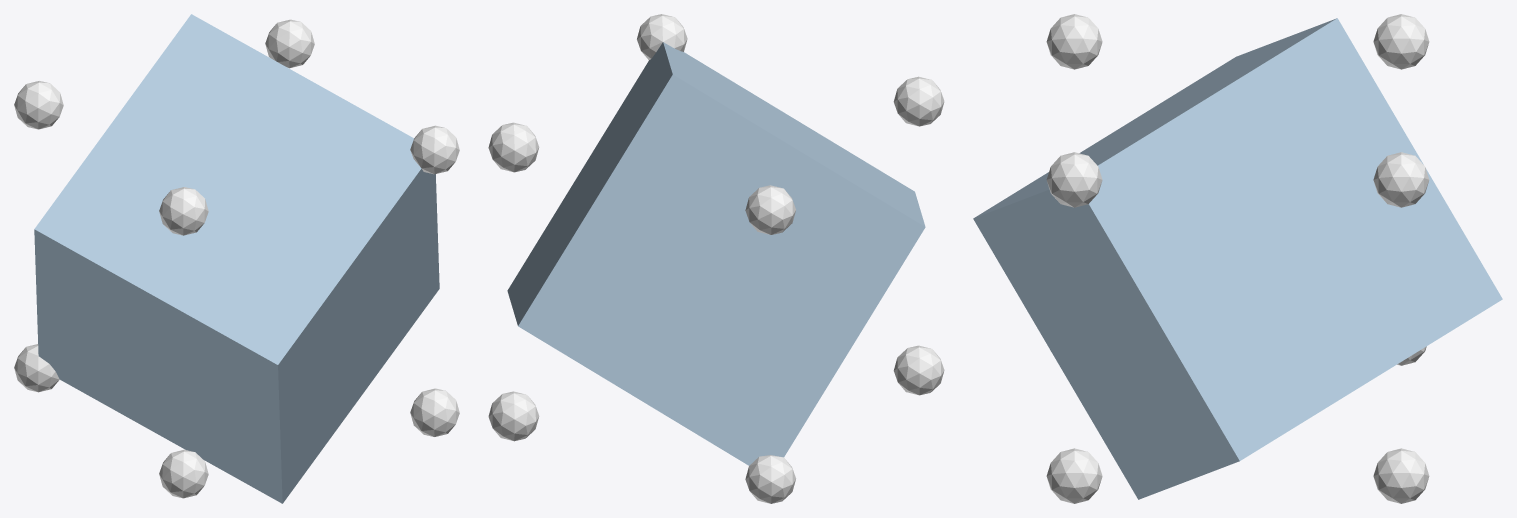
The model's file is vega-shell.glb.
3 views of the same model, side by side, from view 1: azimuth 30°, elevation 25°; view 2: azimuth 150°, elevation 25°; view 3: azimuth 270°, elevation 25° (orthographic). The views are drawn at different scales.
Visible parts, largest first — view 1: world; view 2: world; view 3: world.
Part boxes in pixels (x1,y1,x2,y2): world: (14, 14, 459, 503); world: (488, 14, 944, 503); world: (973, 14, 1502, 503).
Size of the model in its own units: 2 by 2 by 2.
1 material, 1 textured.
